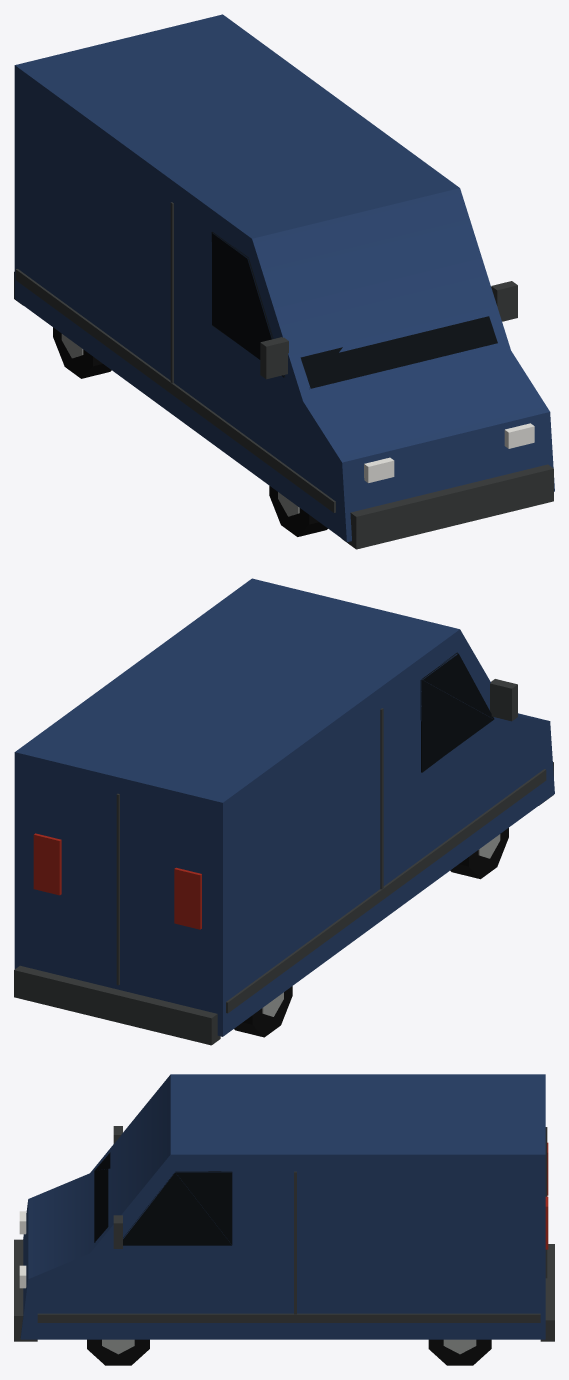
The model's file is vehicle.van.estate_blue.glb.
The picture shows the model from 3 angles, top to bottom: view 1: azimuth 30°, elevation 25°; view 2: azimuth 150°, elevation 25°; view 3: azimuth 270°, elevation 25°; orthographic projection. The views are drawn at different scales.
Visible parts, largest first — view 1: main__paint_246, main__paint_333, main__glass_dark, main__rubber, main__paint_eee; view 2: main__paint_246, main__paint_333, main__glass_dark, main__paint_a21, main__rubber; view 3: main__paint_246, main__paint_333, main__glass_dark, main__rubber, main__steel_999, main__paint_eee.
Part boxes in pixels (x1,y1,x2,y2): main__paint_246: [14, 14, 554, 542]; main__paint_333: [14, 202, 553, 549]; main__glass_dark: [211, 232, 497, 388]; main__rubber: [53, 327, 327, 536]; main__paint_eee: [364, 423, 534, 482]; main__paint_246: [14, 578, 554, 1036]; main__paint_333: [14, 679, 553, 1045]; main__glass_dark: [420, 652, 494, 772]; main__paint_a21: [33, 833, 201, 929]; main__rubber: [234, 828, 508, 1037]; main__paint_246: [20, 1074, 545, 1339]; main__paint_333: [14, 1126, 554, 1341]; main__glass_dark: [94, 1152, 232, 1245]; main__rubber: [87, 1339, 491, 1365]; main__steel_999: [102, 1339, 476, 1354]; main__paint_eee: [19, 1211, 26, 1288].
Size of the model in its own units: 2.42 by 2.47 by 5.7.
